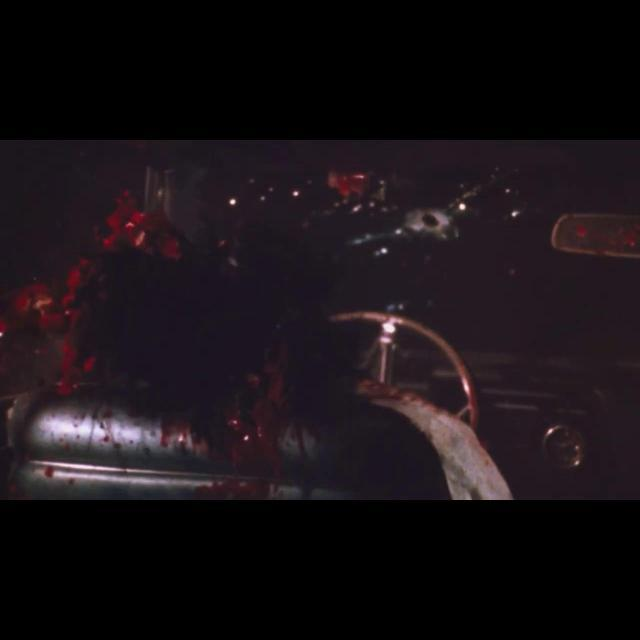blood: (0, 196, 480, 499), (554, 213, 640, 258)
